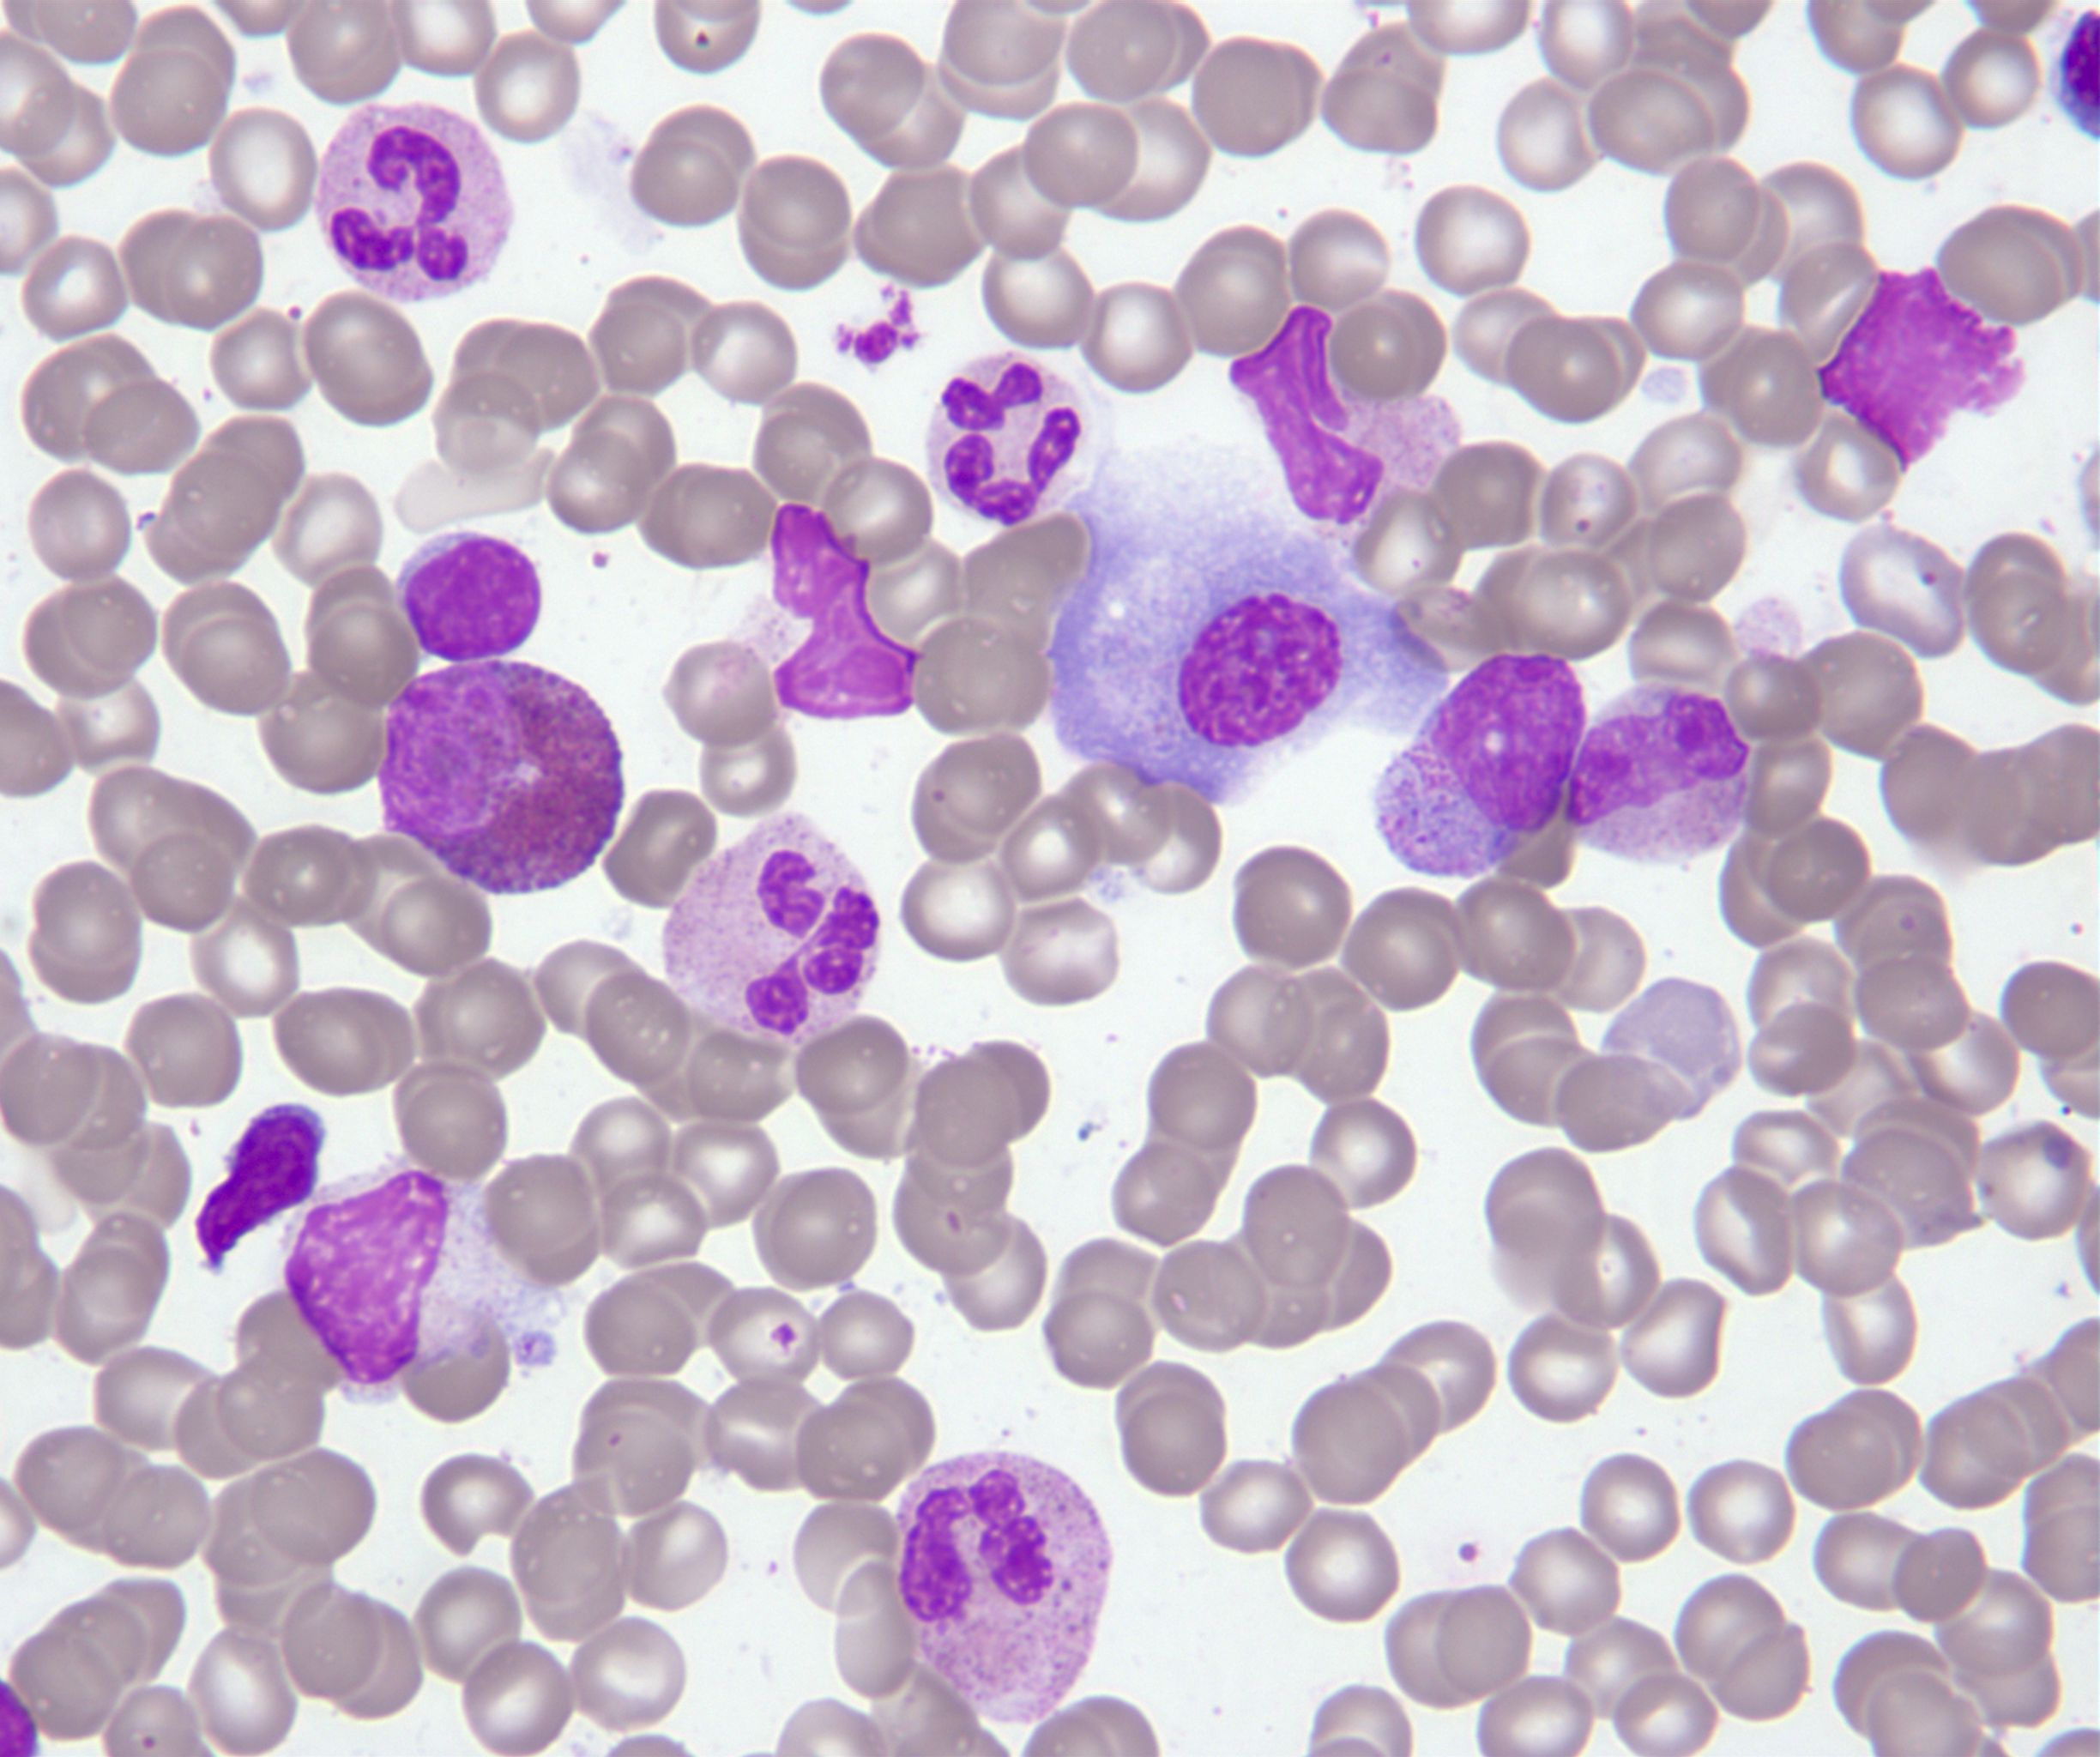3: (1366, 644, 1592, 886)
32: (194, 1099, 328, 1275), (385, 525, 548, 663)
4: (1556, 680, 1755, 876)
5: (890, 1448, 1115, 1727)
6: (659, 808, 888, 1052), (305, 96, 523, 311), (919, 345, 1109, 537)
E2: (372, 656, 628, 902)
x: (277, 1153, 511, 1399), (1800, 263, 2037, 482), (1144, 565, 1371, 773)
